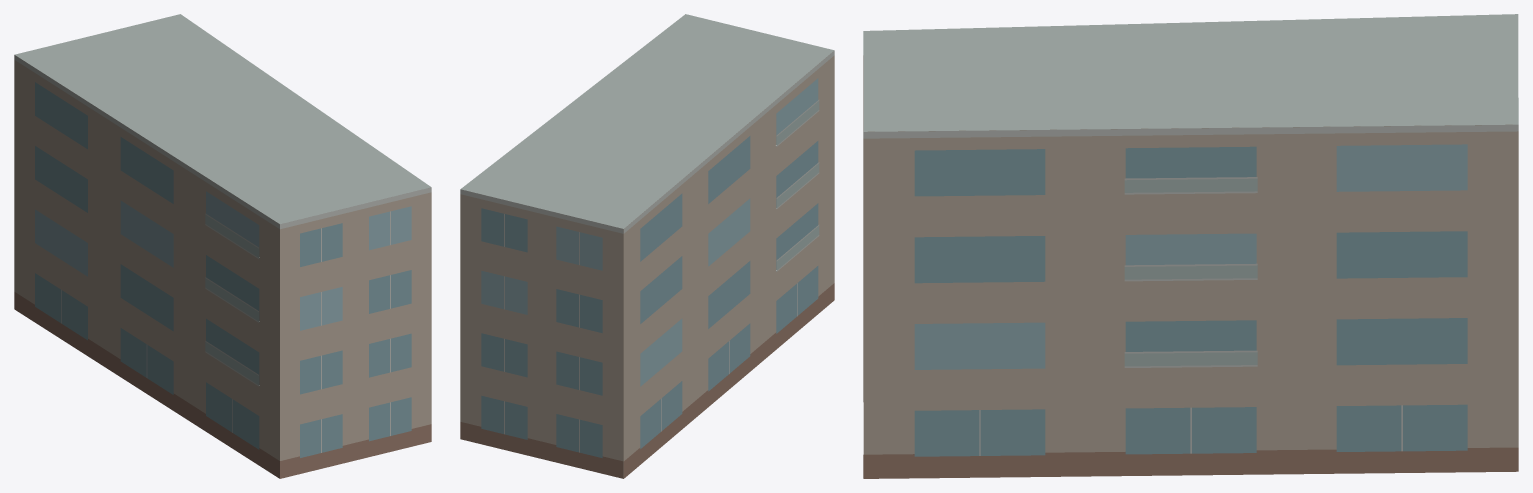
File: survey-upis-32767986.glb
3 renders of one model, left to right at view 1: azimuth 30°, elevation 25°; view 2: azimuth 150°, elevation 25°; view 3: azimuth 270°, elevation 25°, orthographic. The views are drawn at different scales.
Visible parts, largest first — view 1: survey-upis-32767986.tmp; view 2: survey-upis-32767986.tmp; view 3: survey-upis-32767986.tmp.
Part boxes in pixels (left/top/right/bottom): survey-upis-32767986.tmp: left=14, top=14, right=431, bottom=478; survey-upis-32767986.tmp: left=460, top=14, right=834, bottom=478; survey-upis-32767986.tmp: left=863, top=14, right=1518, bottom=478.
Bounding box in the file's own units: 9.04 × 12.4 × 21.23.
